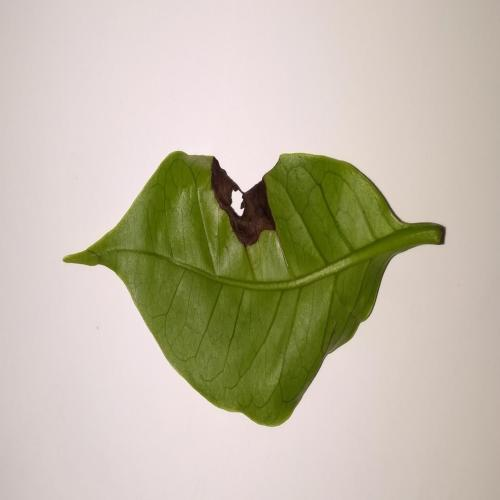miner: (211, 156, 275, 247)
